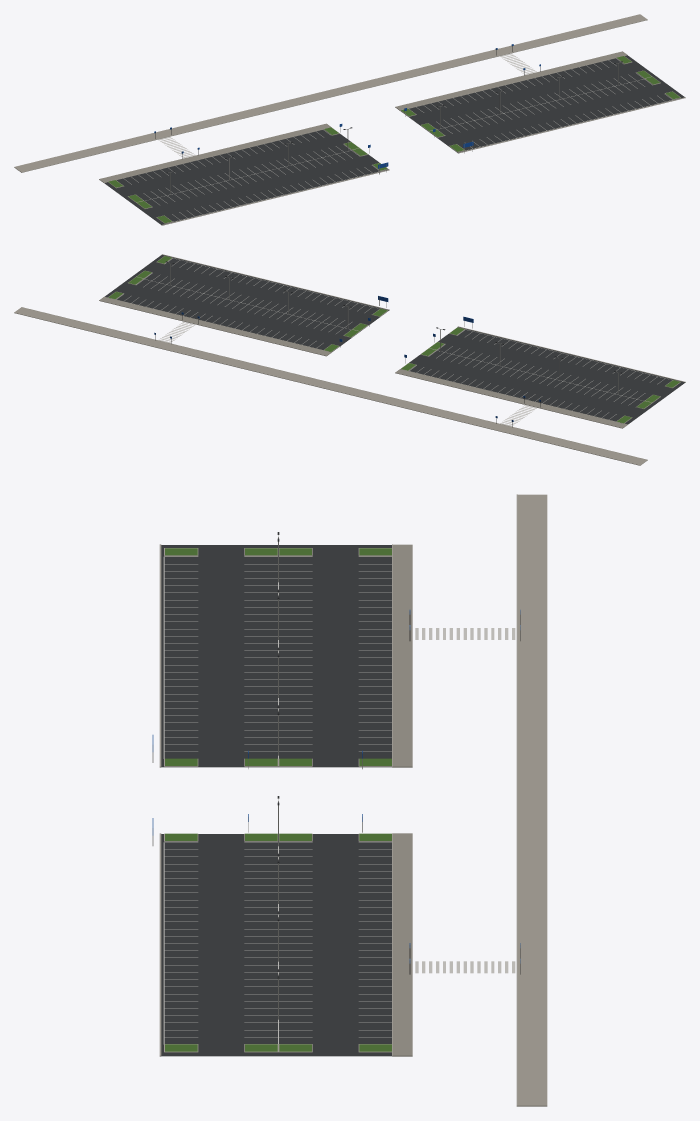
File: ns_carpark_lod1.glb
3 renders of one model, top to bottom at view 1: azimuth 30°, elevation 25°; view 2: azimuth 150°, elevation 25°; view 3: azimuth 270°, elevation 25°, orthographic. The views are drawn at different scales.
Visible parts, largest first — view 1: ns_carpark_lod1; view 2: ns_carpark_lod1; view 3: ns_carpark_lod1.
Part boxes in pixels (box(x1,y1,x2,y2)): ns_carpark_lod1: box(14, 14, 685, 225); ns_carpark_lod1: box(14, 254, 685, 465); ns_carpark_lod1: box(152, 494, 547, 1106).
Bounding box in the file's own units: 220 × 7.75 × 60.05.
